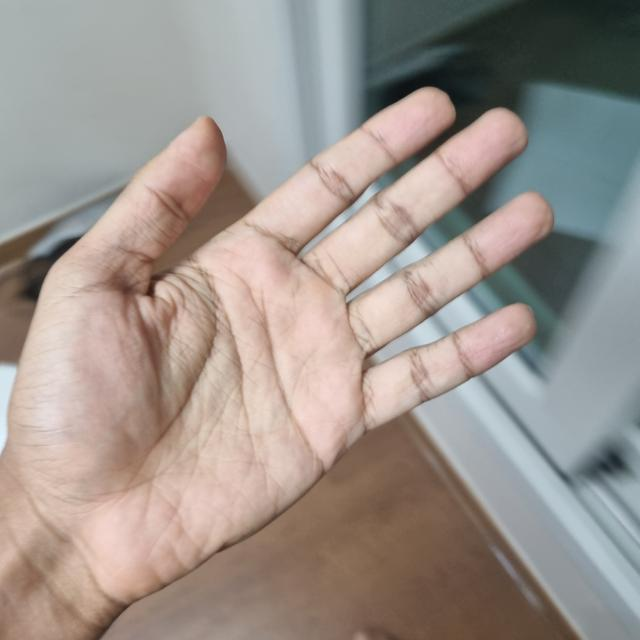Paper: (4, 94, 547, 597)
